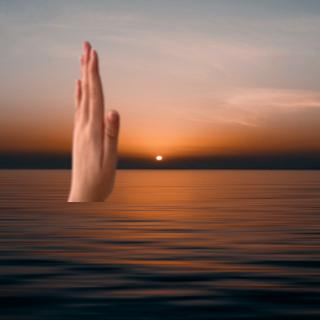Right: (61, 37, 122, 204)
